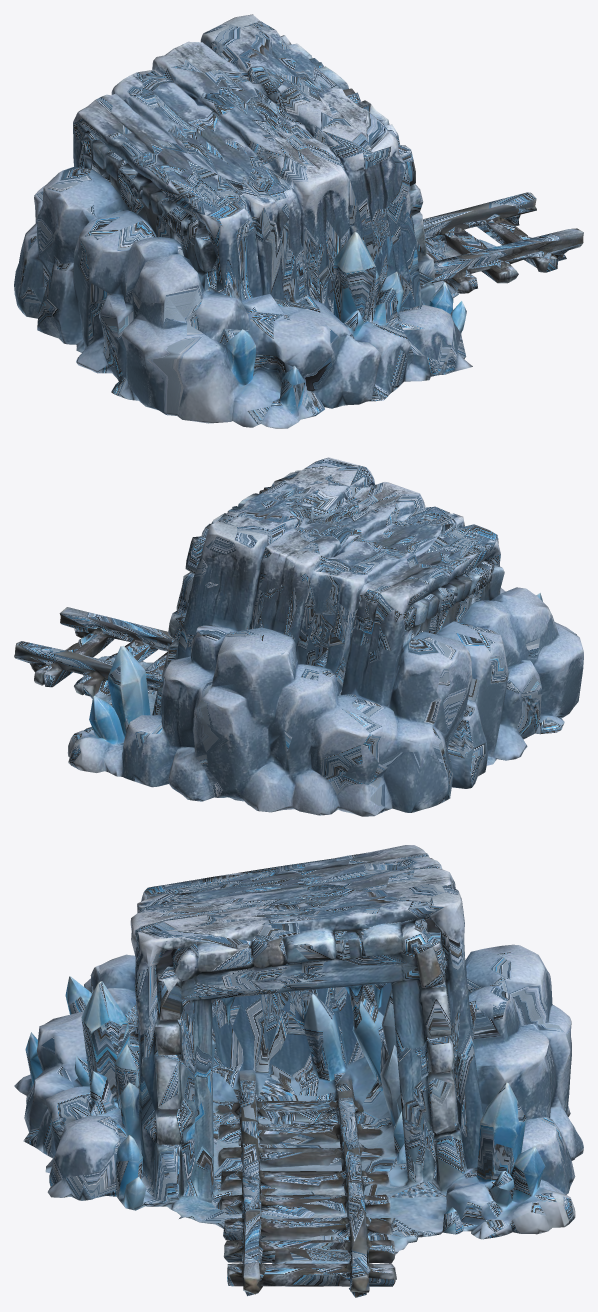
Rendered from ice_mine_tunnel_01.glb.
3 views of the same model, one above another, from view 1: azimuth 30°, elevation 25°; view 2: azimuth 150°, elevation 25°; view 3: azimuth 270°, elevation 25° (orthographic). The views are drawn at different scales.
Visible parts, largest first — view 1: tripo_node_1326d502-e01e-432e-a560-cecb6cae0ab8; view 2: tripo_node_1326d502-e01e-432e-a560-cecb6cae0ab8; view 3: tripo_node_1326d502-e01e-432e-a560-cecb6cae0ab8.
Part boxes in pixels (x1,y1,x2,y2): tripo_node_1326d502-e01e-432e-a560-cecb6cae0ab8: [14, 14, 583, 428]; tripo_node_1326d502-e01e-432e-a560-cecb6cae0ab8: [14, 457, 583, 816]; tripo_node_1326d502-e01e-432e-a560-cecb6cae0ab8: [14, 845, 583, 1297].
Bounding box in the file's own units: 0.9814 × 0.4496 × 0.8595.
1 material, 1 textured.
